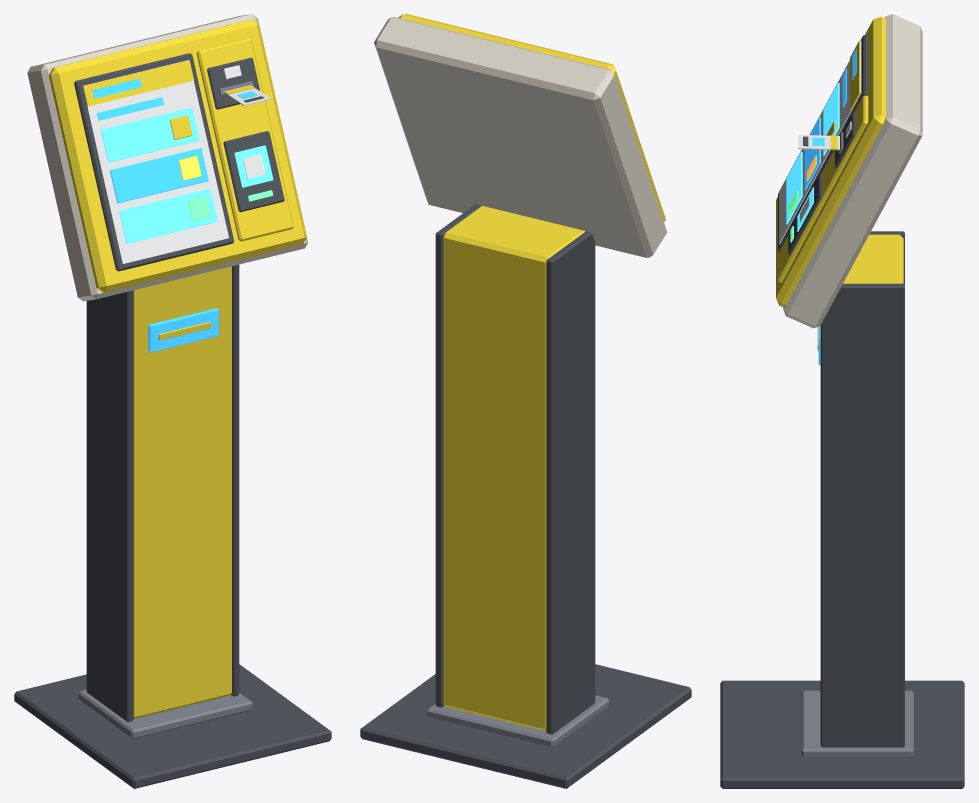
File: ticket_despenser.fbx
The picture shows the model from 3 angles, left to right: view 1: azimuth 30°, elevation 25°; view 2: azimuth 150°, elevation 25°; view 3: azimuth 270°, elevation 25°; orthographic projection. The views are drawn at different scales.
Parts seen in each view (by area): view 1: Totem_Colonna_Gialla, Totem_Colonna_Fascia_SX, Totem_Base_Piastra, Testata_Scocca_Gialla, Schermo_Sfondo_Bianco, Testata_Cornice_Esterna, Modulo_Destro_Base, Schermo_Cornice_Nera, Totem_Colonna_Fascia_DX, Totem_Base_Collarino, UI_Tasto_Pacchi, UI_Tasto_Pagamenti (+7 smaller); view 2: Totem_Colonna_Gialla, Testata_Cornice_Esterna, Totem_Colonna_Fascia_SX, Totem_Base_Piastra, Totem_Colonna_Fascia_DX, Totem_Base_Collarino, Testata_Scocca_Gialla; view 3: Totem_Colonna_Fascia_DX, Totem_Base_Piastra, Testata_Cornice_Esterna, Testata_Scocca_Gialla, Totem_Base_Collarino, Totem_Colonna_Gialla, Modulo_Destro_Base, Schermo_Sfondo_Bianco, Schermo_Cornice_Nera, UI_Tasto_Pacchi, Lettore_QR_Cornice, UI_Tasto_Servizi (+2 smaller).
Boxes of the visible parts, x1,y1,x2,y2 form: Totem_Colonna_Gialla: (133,266,231,718); Totem_Colonna_Fascia_SX: (86,290,133,722); Totem_Base_Piastra: (14,664,331,788); Testata_Scocca_Gialla: (48,19,306,292); Schermo_Sfondo_Bianco: (82,60,228,264); Testata_Cornice_Esterna: (27,14,308,301); Modulo_Destro_Base: (196,38,293,241); Schermo_Cornice_Nera: (74,53,233,271); Totem_Colonna_Fascia_DX: (231,264,239,696); Totem_Base_Collarino: (78,689,252,738); UI_Tasto_Pacchi: (119,188,217,243); UI_Tasto_Pagamenti: (110,148,208,203); Totem_Colonna_Gialla: (443,206,584,730); Testata_Cornice_Esterna: (374,17,667,257); Totem_Colonna_Fascia_SX: (546,231,595,734); Totem_Base_Piastra: (360,664,691,788); Totem_Colonna_Fascia_DX: (435,204,480,707); Totem_Base_Collarino: (427,695,609,748); Testata_Scocca_Gialla: (398,14,665,222); Totem_Colonna_Fascia_DX: (820,283,904,747); Totem_Base_Piastra: (720,680,964,788); Testata_Cornice_Esterna: (783,14,922,328); Testata_Scocca_Gialla: (776,16,885,307); Totem_Base_Collarino: (801,690,913,758); Totem_Colonna_Gialla: (843,234,903,283); Modulo_Destro_Base: (778,95,868,282); Schermo_Sfondo_Bianco: (779,40,861,244); Schermo_Cornice_Nera: (778,34,868,251); UI_Tasto_Pacchi: (786,151,802,224); Lettore_QR_Cornice: (788,174,822,255); UI_Tasto_Servizi: (823,83,839,155).
Size of the model in its own units: 50 by 146 by 48.
